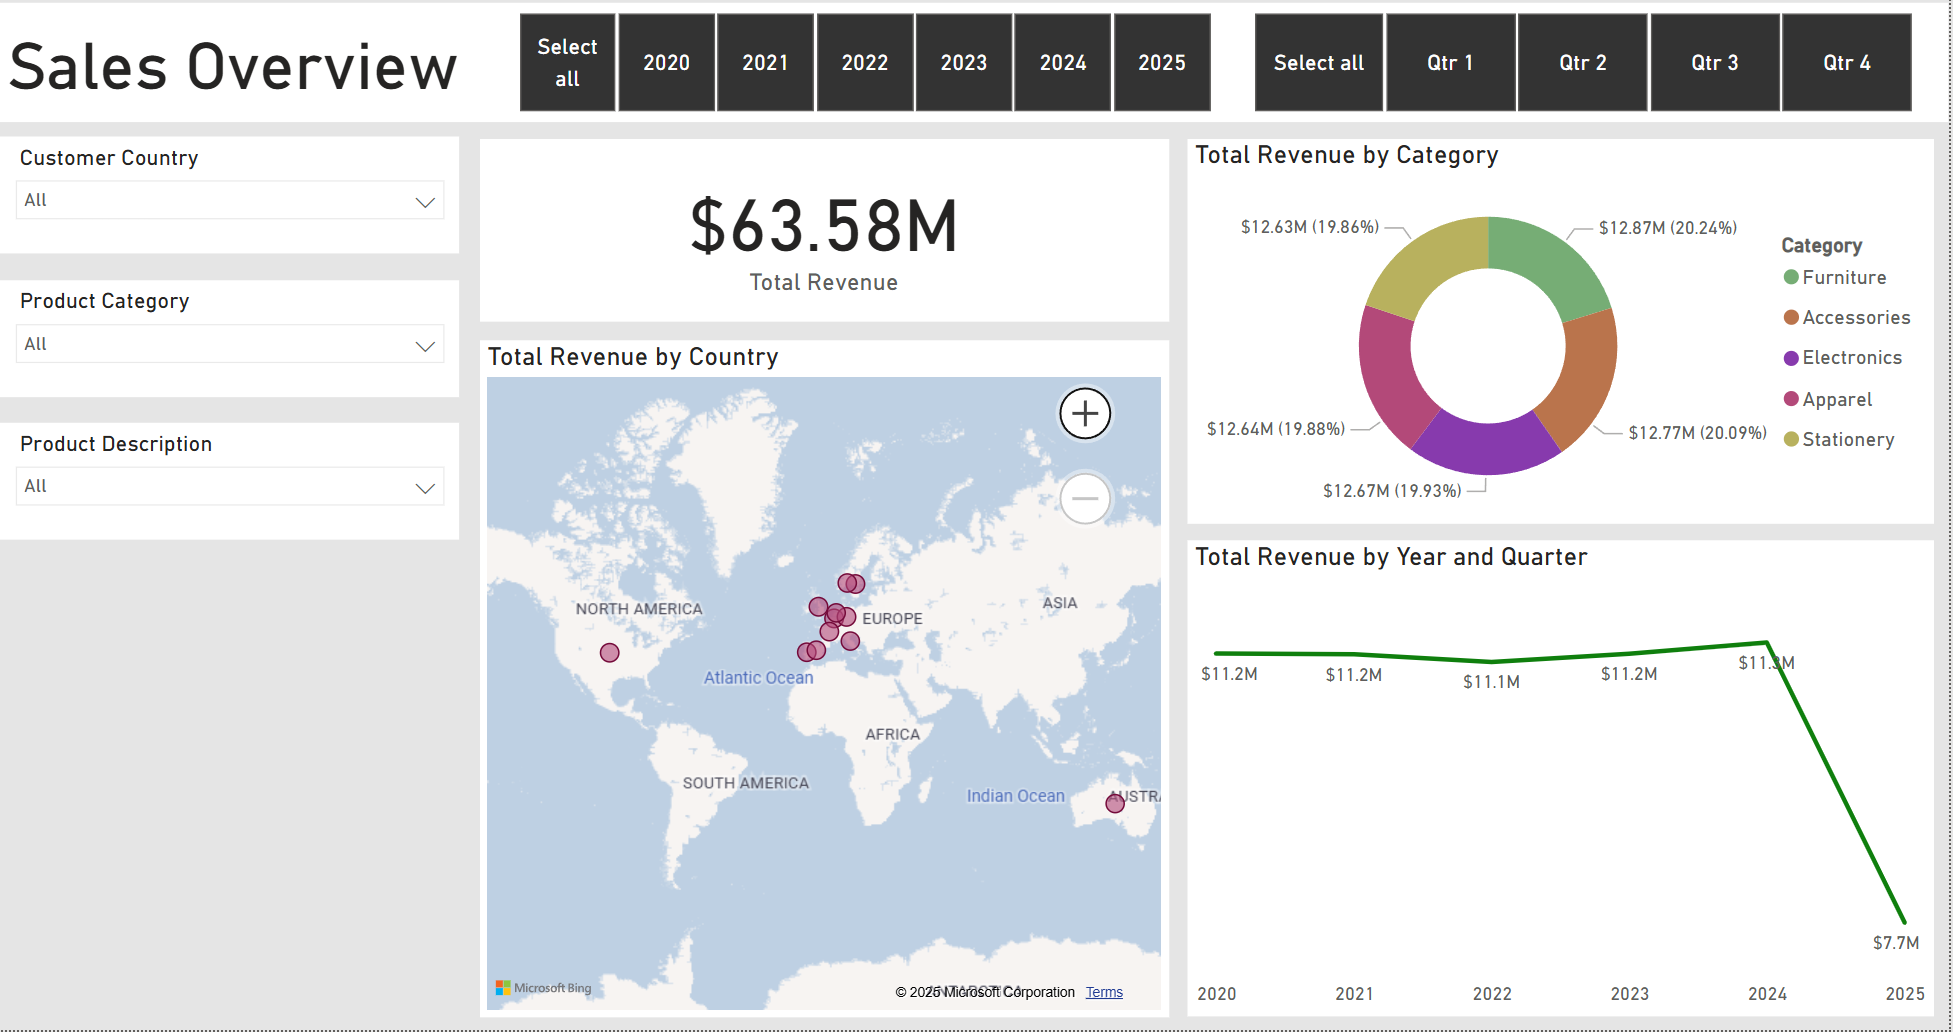

The dashboard page shown, as its layout file describes it:
{"tool":"powerbi","page":{"name":"Sales Overview","canvas":[1280,720],"ordinal":0},"visuals":[{"type":"textbox","box":[0,45.2,1280.3,78.3],"z":0},{"type":"slicer","fields":{"Values":["Online_Sales_Final.Country"]},"box":[0,133.1,301.9,76.8],"z":1000},{"type":"slicer","fields":{"Values":["Online_Sales_Final.Category"]},"box":[0,227.8,301.9,76.8],"z":2000},{"type":"slicer","fields":{"Values":["Online_Sales_Final.Description"]},"box":[0,321.1,301.9,76.8],"z":3000},{"type":"slicer","fields":{"Values":["Online_Sales_Final.Order Date.Variación.Jerarquía de fechas.Año"]},"box":[315.5,45.2,503.8,78.3],"z":4000},{"type":"slicer","fields":{"Values":["Online_Sales_Final.Order Date.Variación.Jerarquía de fechas.Trimestre"]},"box":[798.5,45.2,481.8,78.3],"z":5000},{"type":"card","fields":{"Values":["Online_Sales_Final.Total Revenue"]},"box":[315.5,134.5,452.4,119.8],"z":6000},{"type":"donutChart","fields":{"Category":["Online_Sales_Final.Category"],"Y":["Online_Sales_Final.Total Revenue"]},"box":[780.2,134.5,490.4,262.9],"z":7000},{"type":"lineChart","title":"Total Revenue by Year and Quarter","fields":{"Category":["Online_Sales_Final.Order Date.Variación.Jerarquía de fechas.Año","Online_Sales_Final.Order Date.Variación.Jerarquía de fechas.Trimestre"],"Y":["Online_Sales_Final.Total Revenue"]},"box":[780.2,407.2,490.4,304.5],"z":8000},{"type":"actionButton","box":[0,0,100,40],"z":9000},{"type":"map","fields":{"Category":["Online_Sales_Final.Country"],"Size":["Online_Sales_Final.Total Revenue"]},"box":[315.5,266.6,452.4,445.1],"z":10000}]}

Visuals, with their boxes on the page's 1280x720 design canvas (x1, y1, x2, y2). These are canvas units, not pixel positions in the 1953x1032 screenshot, which may show the page scaled, cropped or inside an application window:
textbox: crop(0, 45, 1280, 124)
slicer - Online_Sales_Final.Country: crop(0, 133, 302, 210)
slicer - Online_Sales_Final.Category: crop(0, 228, 302, 305)
slicer - Online_Sales_Final.Description: crop(0, 321, 302, 398)
slicer - Online_Sales_Final.Order Date.Variación.Jerarquía de fechas.Año: crop(316, 45, 819, 124)
slicer - Online_Sales_Final.Order Date.Variación.Jerarquía de fechas.Trimestre: crop(798, 45, 1280, 124)
card - Online_Sales_Final.Total Revenue: crop(316, 134, 768, 254)
donutChart - Online_Sales_Final.Category x Online_Sales_Final.Total Revenue: crop(780, 134, 1271, 397)
"Total Revenue by Year and Quarter" lineChart: crop(780, 407, 1271, 712)
actionButton: crop(0, 0, 100, 40)
map - Online_Sales_Final.Country x Online_Sales_Final.Total Revenue: crop(316, 267, 768, 712)
